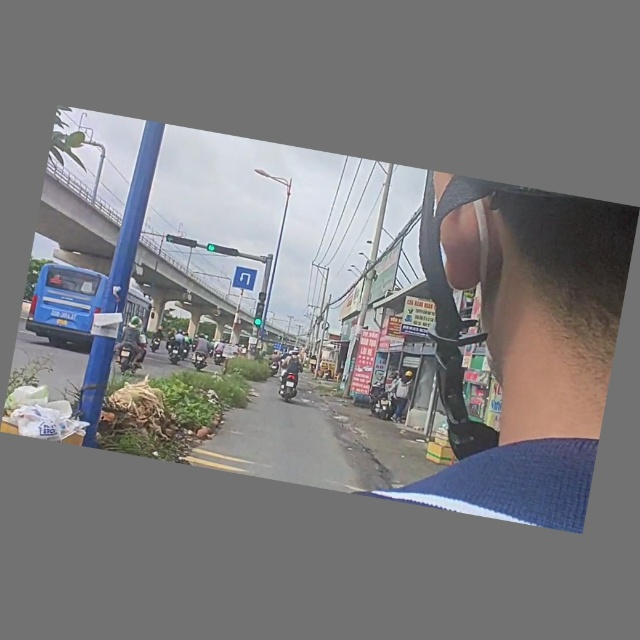I.409: (230, 265, 260, 293)
